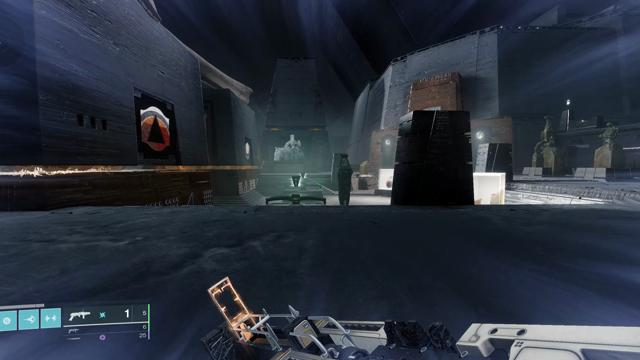pyramid: (140, 106, 171, 152)
traveler: (245, 143, 250, 160)
